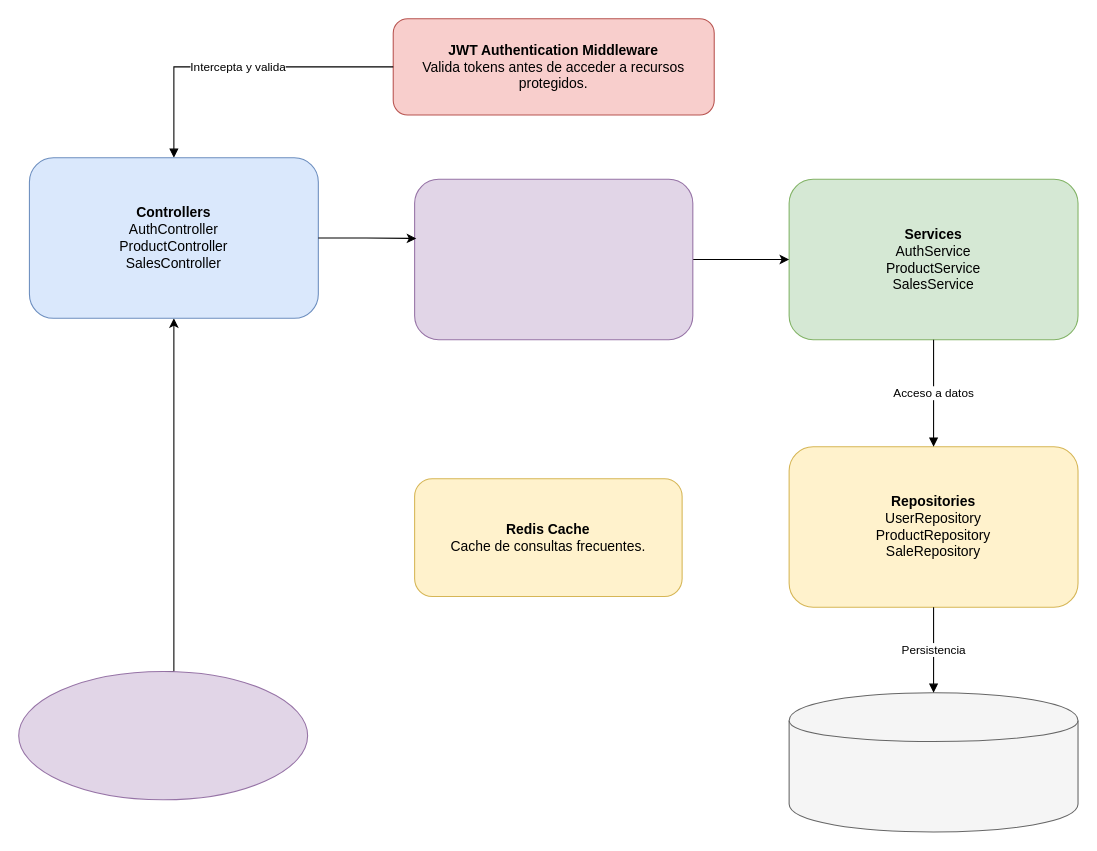
Image size: 1097x851. Some labels were removed from this diagram. The centre of each missing label's shape, as x and y in pixels:
"Base de Datos Persistencia de usuarios, productos, ventas e inventario." goes at point (933, 762).
"DTOs LoginRequestDTO ProductDTO SaleDTO" goes at point (553, 259).
"Pasarela de Pagos Servicio externo." goes at point (163, 735).
